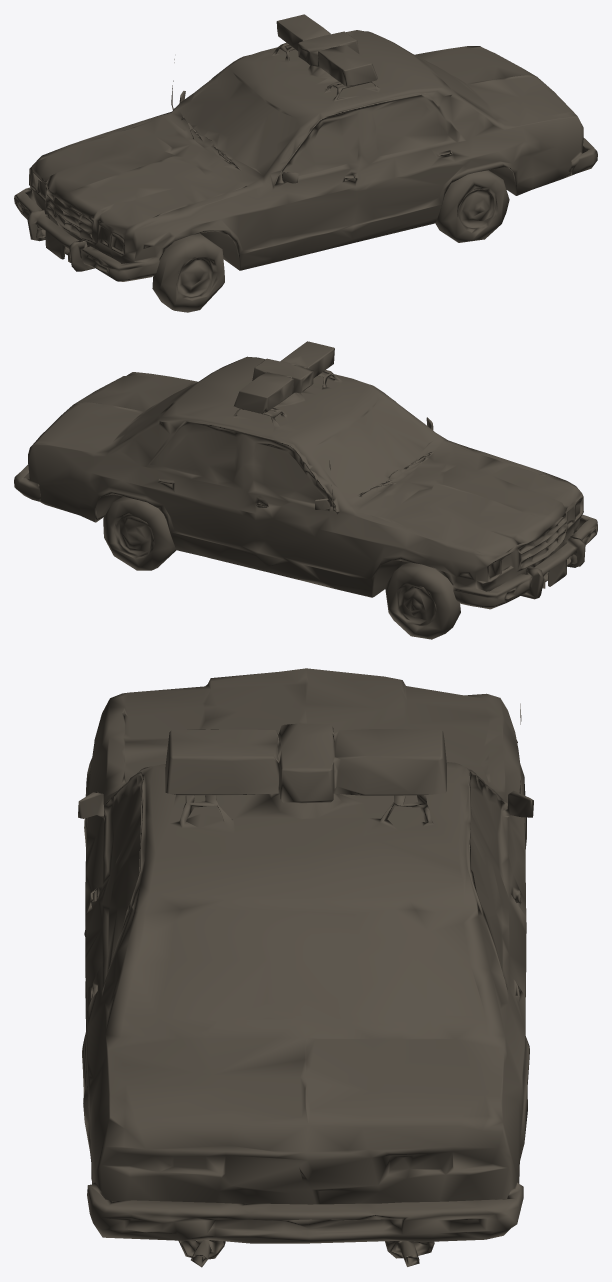
File: car_police_light_q0.glb
The picture shows the model from 3 angles, top to bottom: view 1: azimuth 30°, elevation 25°; view 2: azimuth 150°, elevation 25°; view 3: azimuth 270°, elevation 25°; orthographic projection. The views are drawn at different scales.
Size of the model in its own units: 4.03 by 1.45 by 1.58.
Materials: 1 (1 with a texture image).
